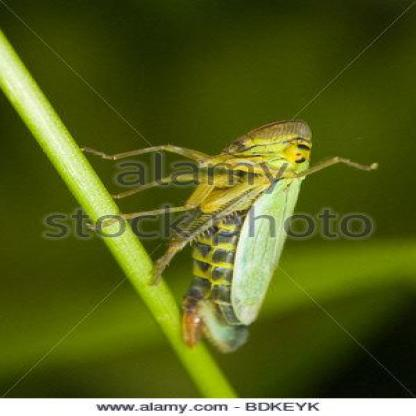Green-Leafhopper: (87, 116, 381, 359)
